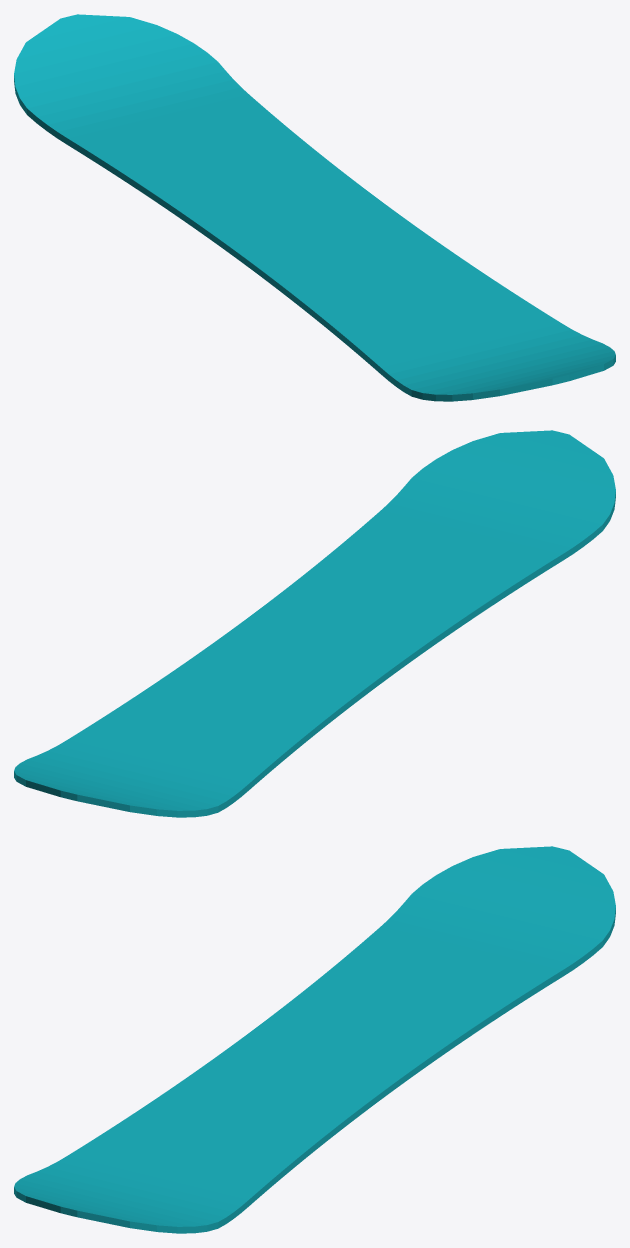
The model's file is snowboard.glb.
3 views of the same model, one above another, from view 1: azimuth 30°, elevation 25°; view 2: azimuth 150°, elevation 25°; view 3: azimuth 330°, elevation 25° (orthographic).
Parts seen in each view (by area): view 1: Slopesmith stock snowboard; view 2: Slopesmith stock snowboard; view 3: Slopesmith stock snowboard.
Boxes of the visible parts, x1=… form: Slopesmith stock snowboard: x1=14, y1=14, x2=615, y2=401; Slopesmith stock snowboard: x1=14, y1=430, x2=615, y2=817; Slopesmith stock snowboard: x1=14, y1=846, x2=615, y2=1233.
Bounding box in the file's own units: 0.417 × 0.086 × 1.86.
